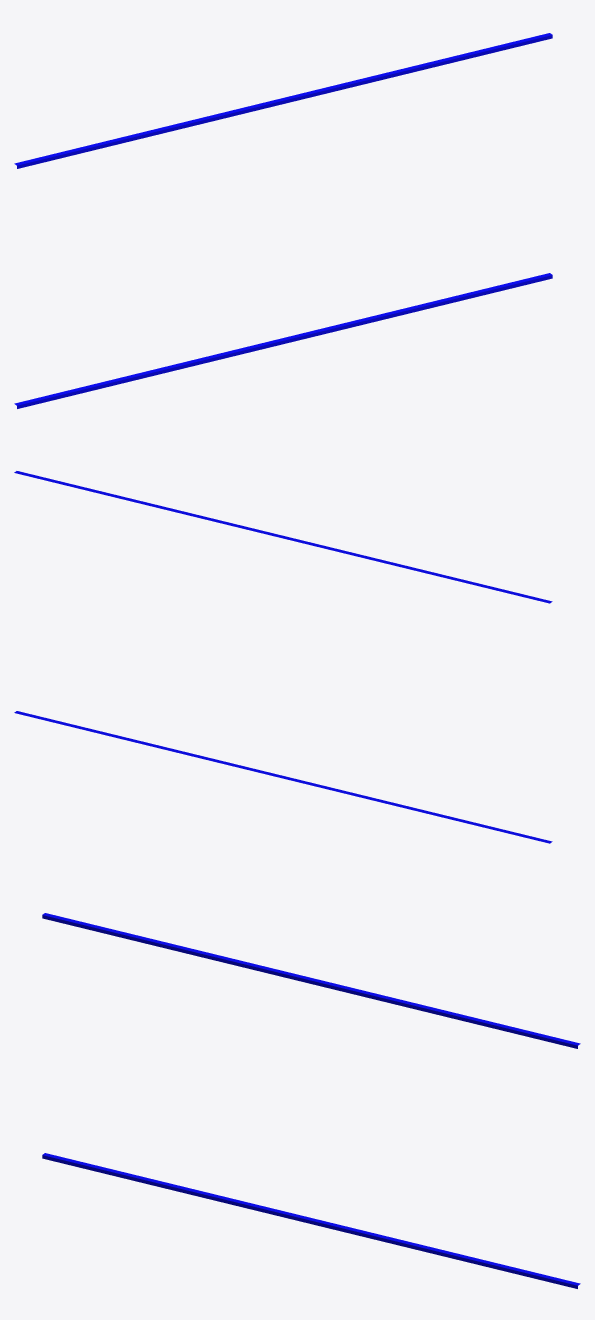
Rendered from roomsm_a_wall_straight_08x01x04_a.glb.
The picture shows the model from 3 angles, top to bottom: view 1: azimuth 30°, elevation 25°; view 2: azimuth 150°, elevation 25°; view 3: azimuth 330°, elevation 25°; orthographic projection.
Bounding box in the file's own units: 8 × 4 × 0.8204.
